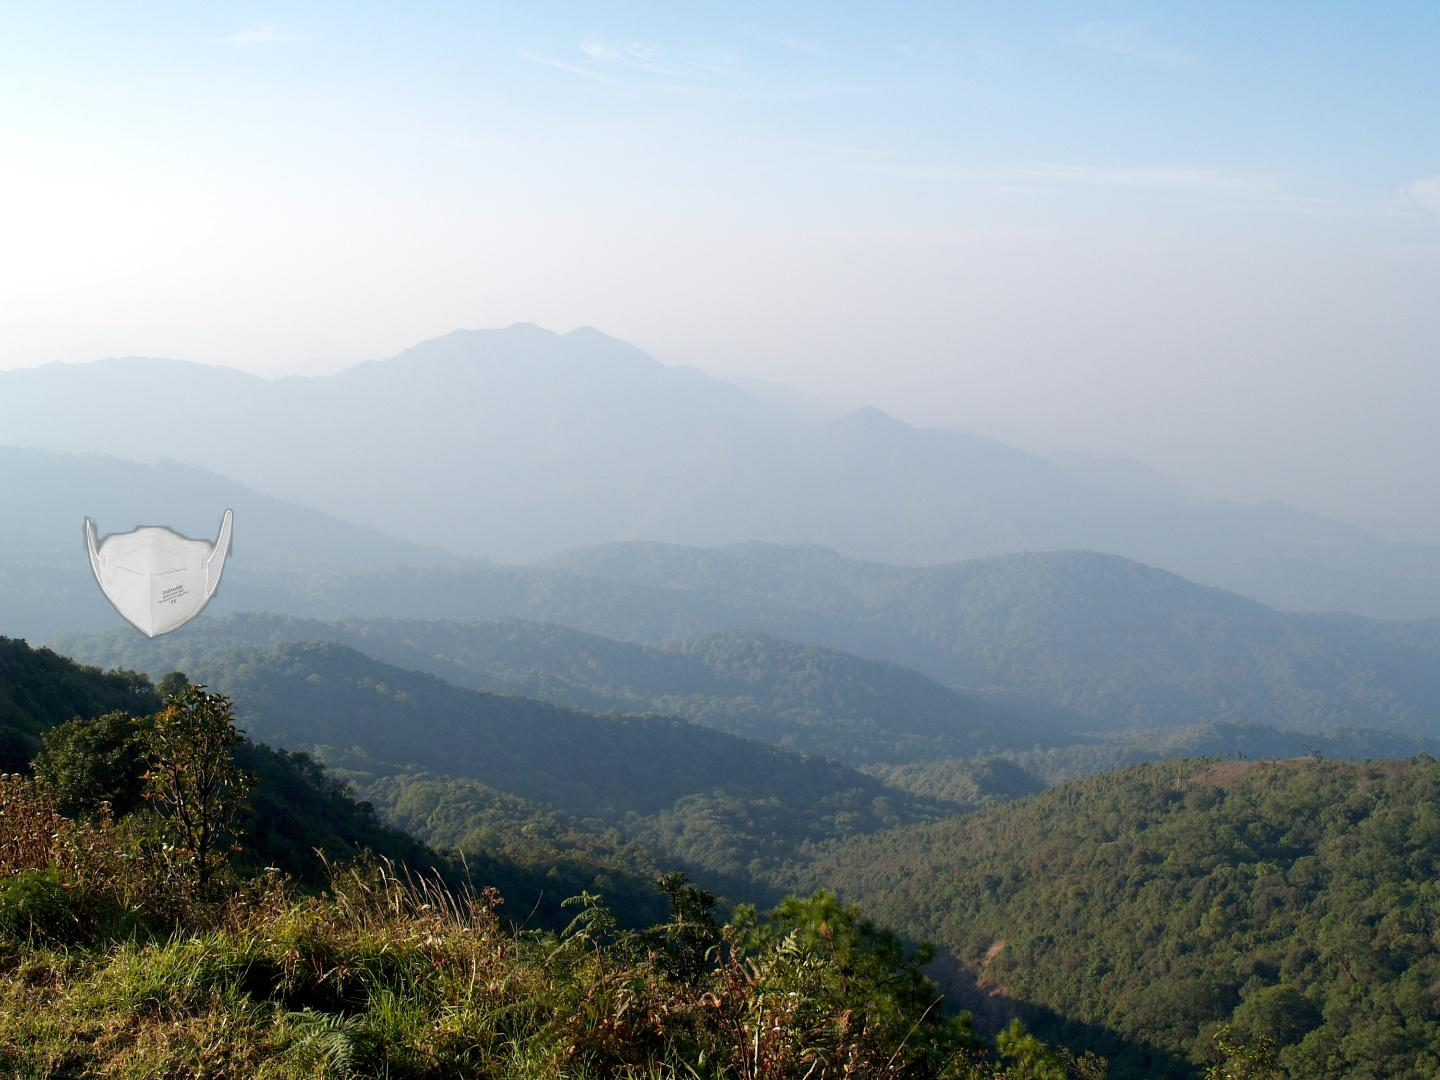trash: (81, 506, 236, 642)
